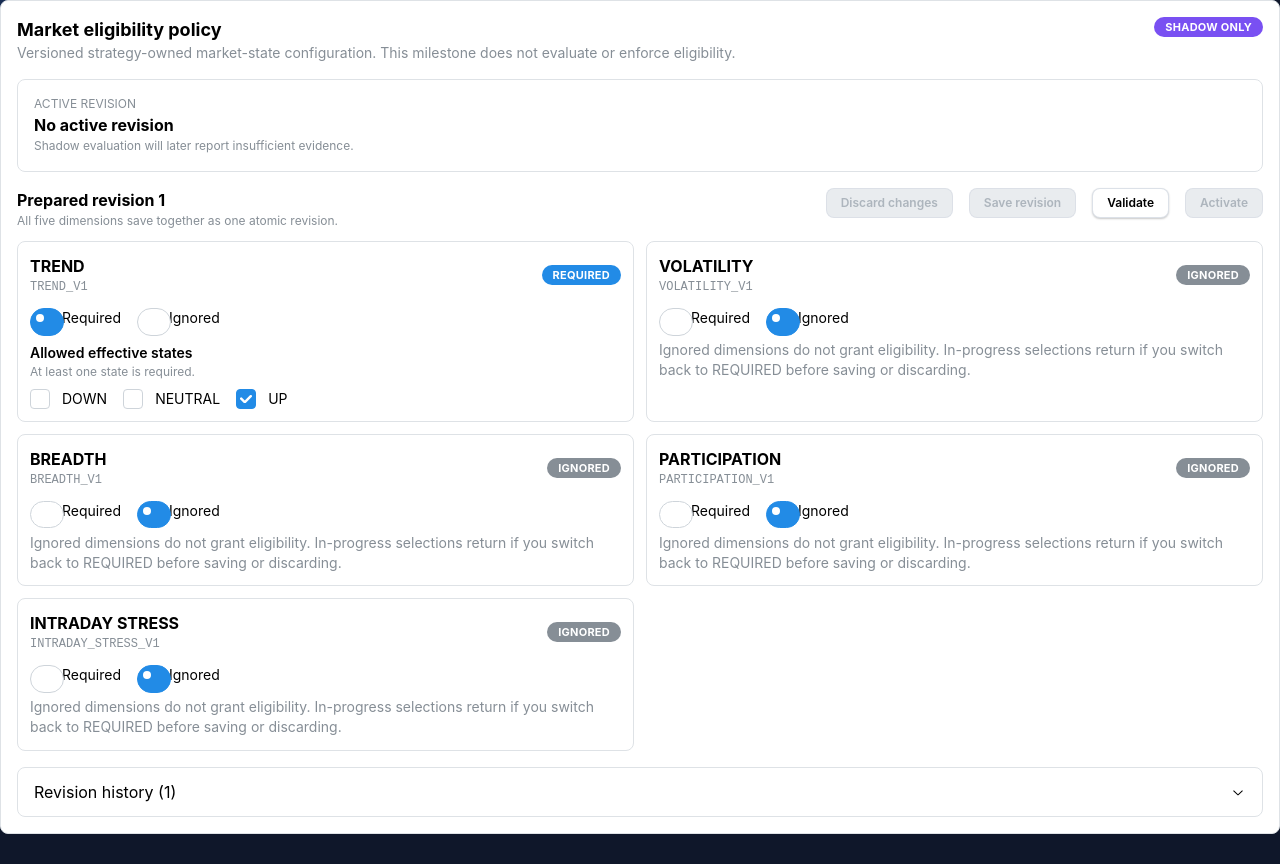
StrategyMarketPolicyPanel › validates every required dimension independently before enabling save
The width and height of the screenshot is (1280, 864).
Click the 2nd radio button labelled "Required": (676, 322) [659,308,693,336]
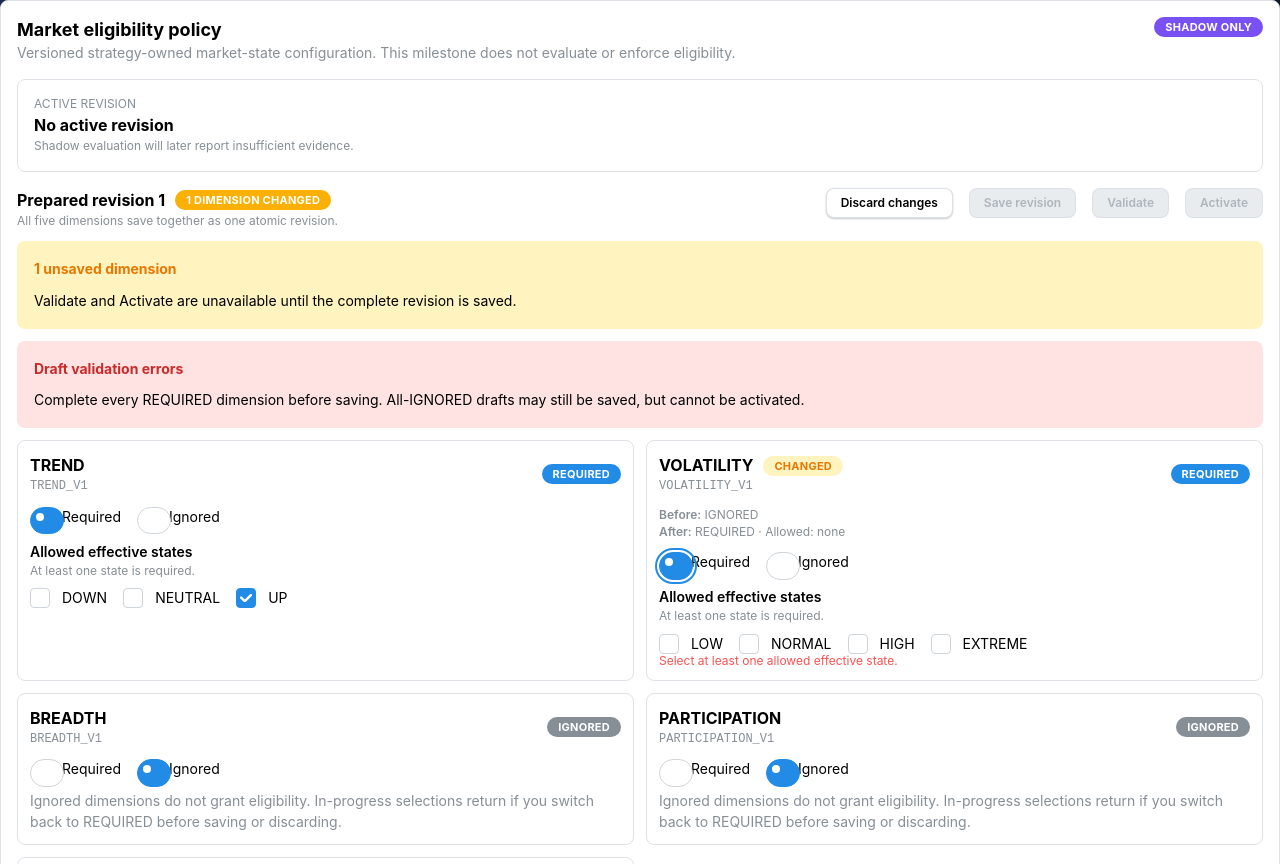
Expected: the button "Save revision" is disabled, [969,188,1076,218]
Result: the text "Select at least one allowed effective state." is shown at [659,652,898,668]
Click the checkbox labelled "EXTREME": (940, 644) [930,634,950,654]
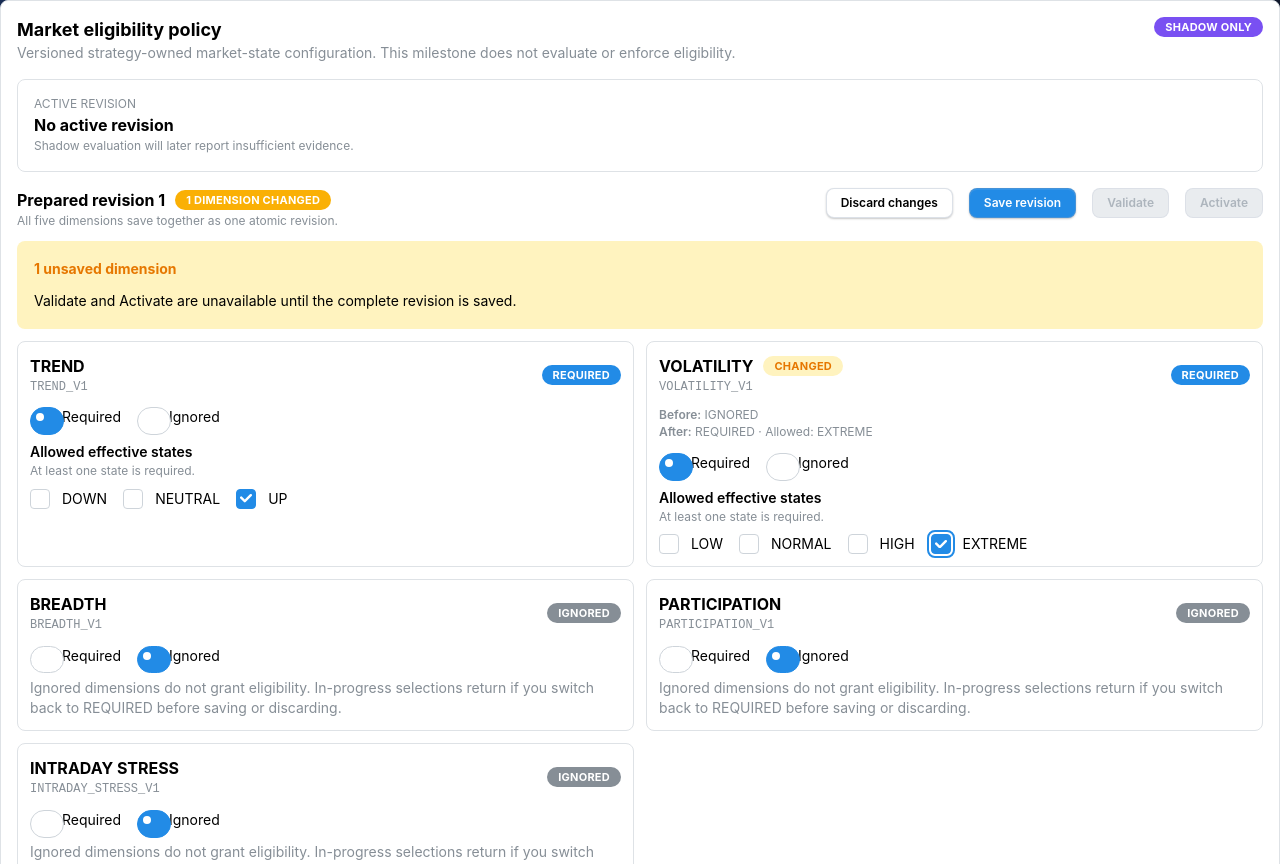
Result: the text "Select at least one allowed effective state." is gone
Result: the button "Save revision" is enabled at [969,188,1076,218]
